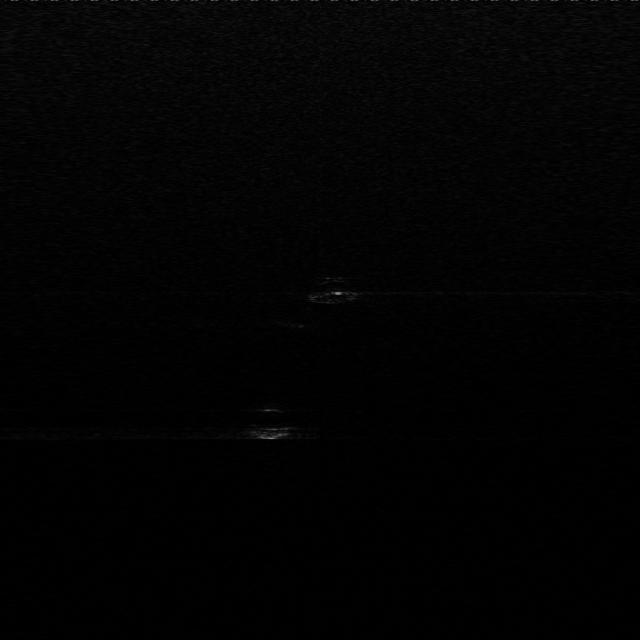ball: (232, 402, 309, 445)
tyre: (302, 270, 369, 307)
